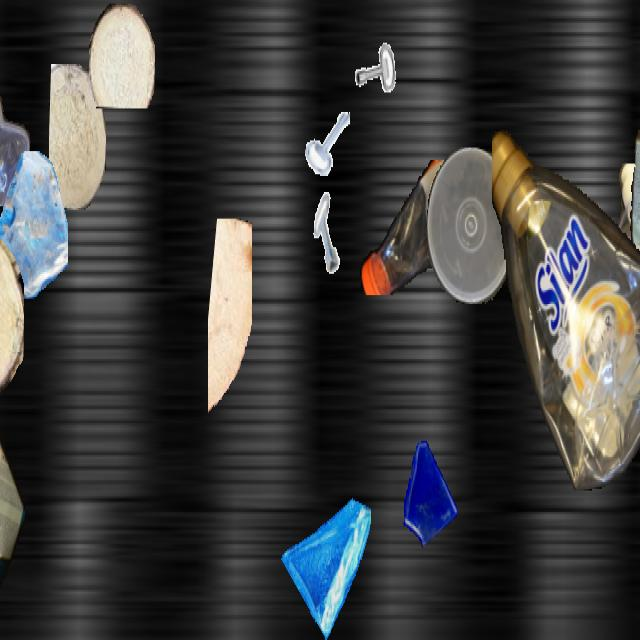glass: (280, 478, 370, 638), (0, 151, 67, 297), (398, 436, 460, 546)
metal: (343, 4, 399, 103), (306, 192, 352, 274), (305, 105, 349, 183)
plastic: (492, 117, 640, 491), (358, 160, 504, 295), (427, 148, 515, 304), (612, 2, 640, 446), (605, 164, 640, 448), (0, 393, 24, 638), (0, 52, 31, 205)
wood: (208, 219, 252, 425), (49, 64, 105, 210), (89, 3, 155, 106), (0, 220, 23, 394)
